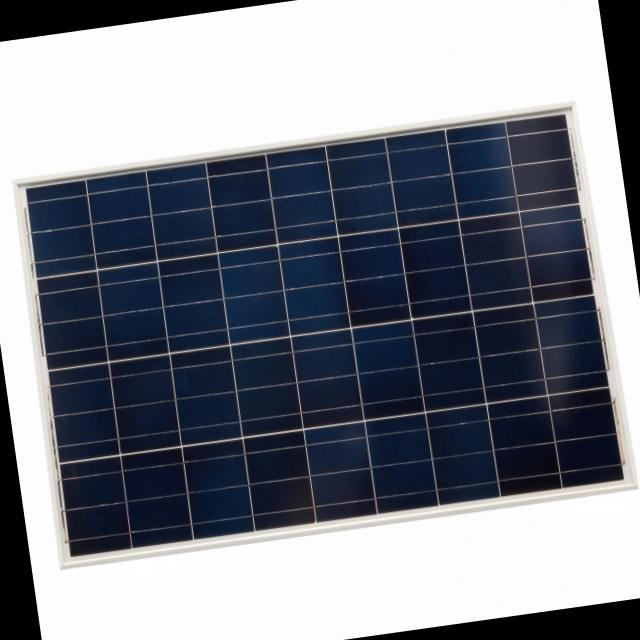no faulty: (26, 110, 624, 551)
